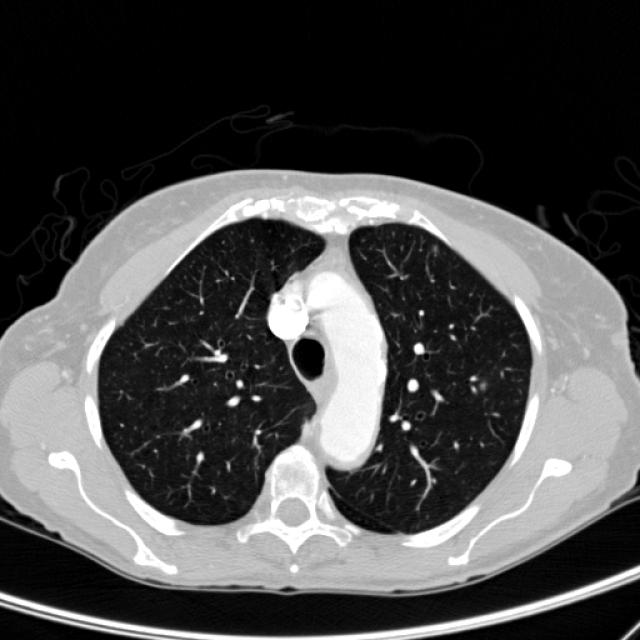nodule: (470, 373, 492, 395)
